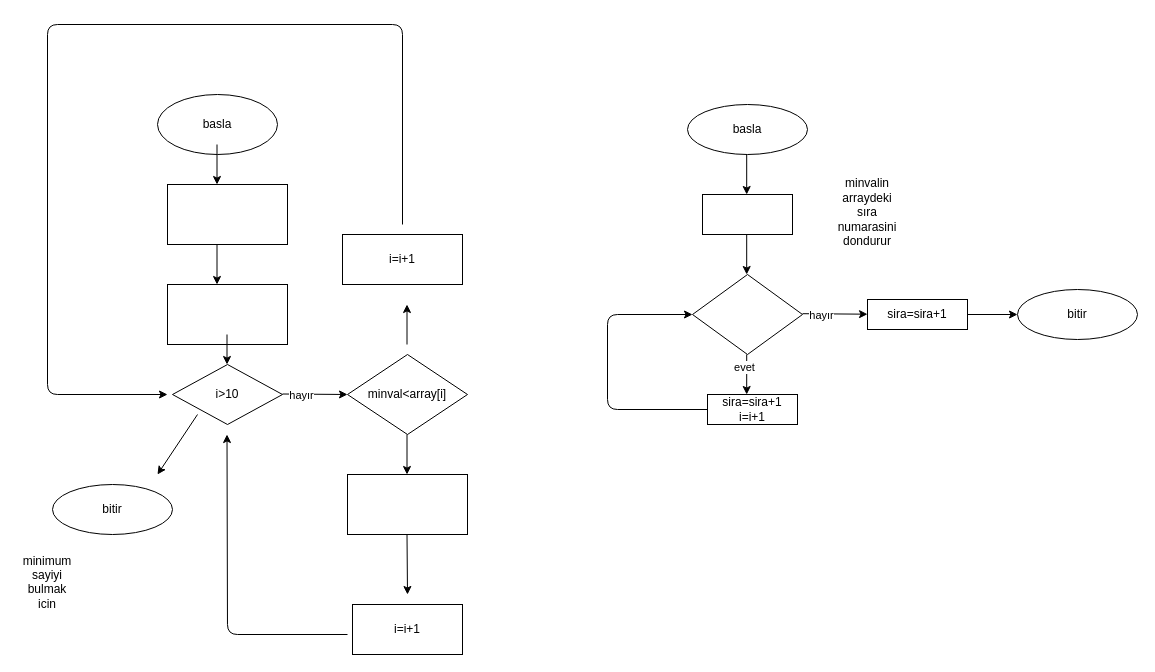
The diagram is 1155 pixels wide and 672 high, and some of its shapes have lost their labels. The shapes that lost their labels are listed below. From the top down, each one's centre as x and y in pixels, then its label:
At pixel 227 214: "array i=0 sira".
At pixel 747 214: "sira=0 i=0".
At pixel 227 314: "minval=array[0]".
At pixel 747 314: "minval!=array[i]".
At pixel 407 504: "minval=array[i]".
